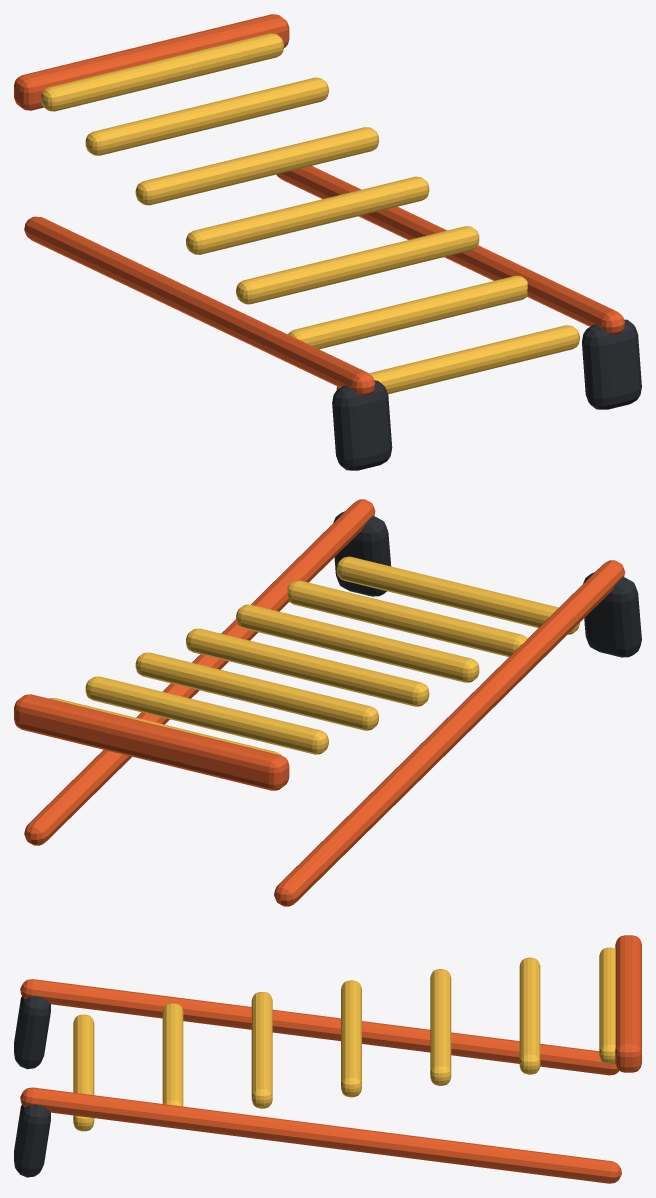
Rendered from GameplayLadder.fbx.
The picture shows the model from 3 angles, top to bottom: view 1: azimuth 30°, elevation 25°; view 2: azimuth 150°, elevation 25°; view 3: azimuth 270°, elevation 25°; orthographic projection. The views are drawn at different scales.
Visible parts, largest first — view 1: Ladder_Rail_L, Ladder_Rail_R, Ladder_Rung_06, Ladder_Rung_04, Ladder_Rung_03, Ladder_Rung_05, Ladder_Rung_07, Ladder_Rung_02, Ladder_Top_Cap, Ladder_Rung_01, Ladder_Foot_L, Ladder_Foot_R; view 2: Ladder_Rail_L, Ladder_Top_Cap, Ladder_Rail_R, Ladder_Rung_06, Ladder_Rung_04, Ladder_Rung_03, Ladder_Rung_05, Ladder_Rung_02, Ladder_Rung_01, Ladder_Foot_L, Ladder_Foot_R, Ladder_Rung_07; view 3: Ladder_Rail_R, Ladder_Rail_L, Ladder_Top_Cap, Ladder_Rung_06, Ladder_Rung_03, Ladder_Rung_05, Ladder_Rung_04, Ladder_Rung_02, Ladder_Foot_L, Ladder_Foot_R, Ladder_Rung_01, Ladder_Rung_07.
Boxes of the visible parts, bbox=[...] form: Ladder_Rail_L: bbox=[24, 216, 375, 395]; Ladder_Rail_R: bbox=[276, 166, 625, 334]; Ladder_Rung_06: bbox=[85, 77, 328, 155]; Ladder_Rung_04: bbox=[186, 176, 429, 254]; Ladder_Rung_03: bbox=[236, 226, 479, 304]; Ladder_Rung_05: bbox=[135, 127, 378, 205]; Ladder_Rung_07: bbox=[40, 33, 283, 111]; Ladder_Rung_02: bbox=[288, 275, 527, 349]; Ladder_Top_Cap: bbox=[14, 14, 289, 110]; Ladder_Rung_01: bbox=[336, 325, 579, 394]; Ladder_Foot_L: bbox=[332, 380, 392, 470]; Ladder_Foot_R: bbox=[582, 319, 641, 409]; Ladder_Rail_L: bbox=[274, 560, 624, 906]; Ladder_Top_Cap: bbox=[14, 694, 289, 790]; Ladder_Rail_R: bbox=[24, 499, 375, 845]; Ladder_Rung_06: bbox=[85, 676, 328, 754]; Ladder_Rung_04: bbox=[186, 628, 429, 706]; Ladder_Rung_03: bbox=[236, 604, 479, 682]; Ladder_Rung_05: bbox=[135, 652, 378, 730]; Ladder_Rung_02: bbox=[287, 580, 527, 656]; Ladder_Rung_01: bbox=[336, 556, 579, 634]; Ladder_Foot_L: bbox=[583, 572, 641, 657]; Ladder_Foot_R: bbox=[333, 511, 391, 596]; Ladder_Rung_07: bbox=[49, 698, 281, 755]; Ladder_Rail_R: bbox=[20, 1087, 621, 1183]; Ladder_Rail_L: bbox=[20, 979, 618, 1075]; Ladder_Top_Cap: bbox=[615, 935, 641, 1072]; Ladder_Rung_06: bbox=[519, 957, 540, 1074]; Ladder_Rung_03: bbox=[251, 992, 272, 1108]; Ladder_Rung_05: bbox=[430, 969, 451, 1085]; Ladder_Rung_04: bbox=[341, 980, 361, 1097]; Ladder_Rung_02: bbox=[162, 1003, 183, 1106]; Ladder_Foot_L: bbox=[14, 996, 50, 1069]; Ladder_Foot_R: bbox=[14, 1104, 50, 1177]; Ladder_Rung_01: bbox=[73, 1014, 94, 1131]; Ladder_Rung_07: bbox=[599, 947, 615, 1064].
Bounding box in the file's own units: 163 × 80.35 × 331.
